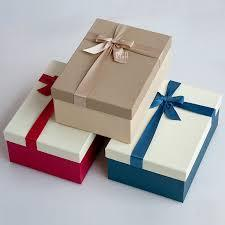box: (2, 59, 135, 187), (50, 18, 171, 146), (105, 72, 222, 202)
